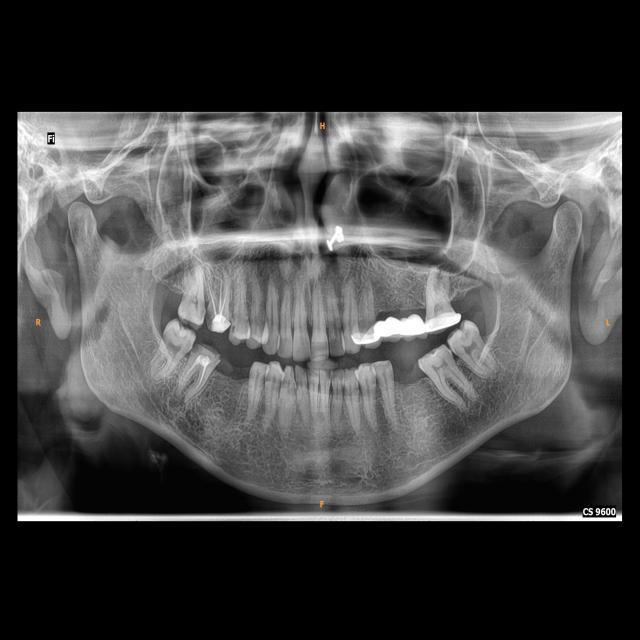dentin-curugu: (190, 342, 203, 354)
dolgu: (210, 315, 231, 333)
kanal-tedavisi: (187, 356, 209, 387), (210, 283, 230, 313)
kaplama: (422, 307, 462, 328), (352, 323, 380, 346)
kopru: (374, 308, 428, 342)
